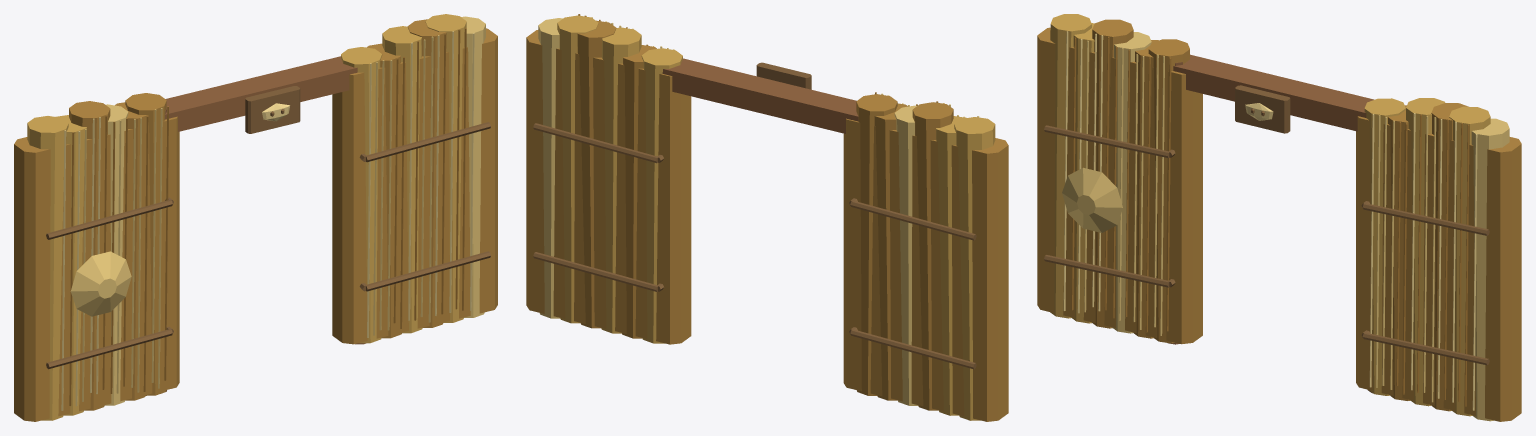
File: straw_front.glb
The picture shows the model from 3 angles, left to right: view 1: azimuth 30°, elevation 25°; view 2: azimuth 150°, elevation 25°; view 3: azimuth 330°, elevation 25°; orthographic projection.
Visible parts, largest first — view 1: straw_front; view 2: straw_front; view 3: straw_front.
Part boxes in pixels (x1,y1,x2,y2): straw_front: (14, 14, 497, 421); straw_front: (526, 14, 1008, 421); straw_front: (1037, 14, 1521, 421).
Bounding box in the file's own units: 0.652 × 0.3868 × 0.0874.
